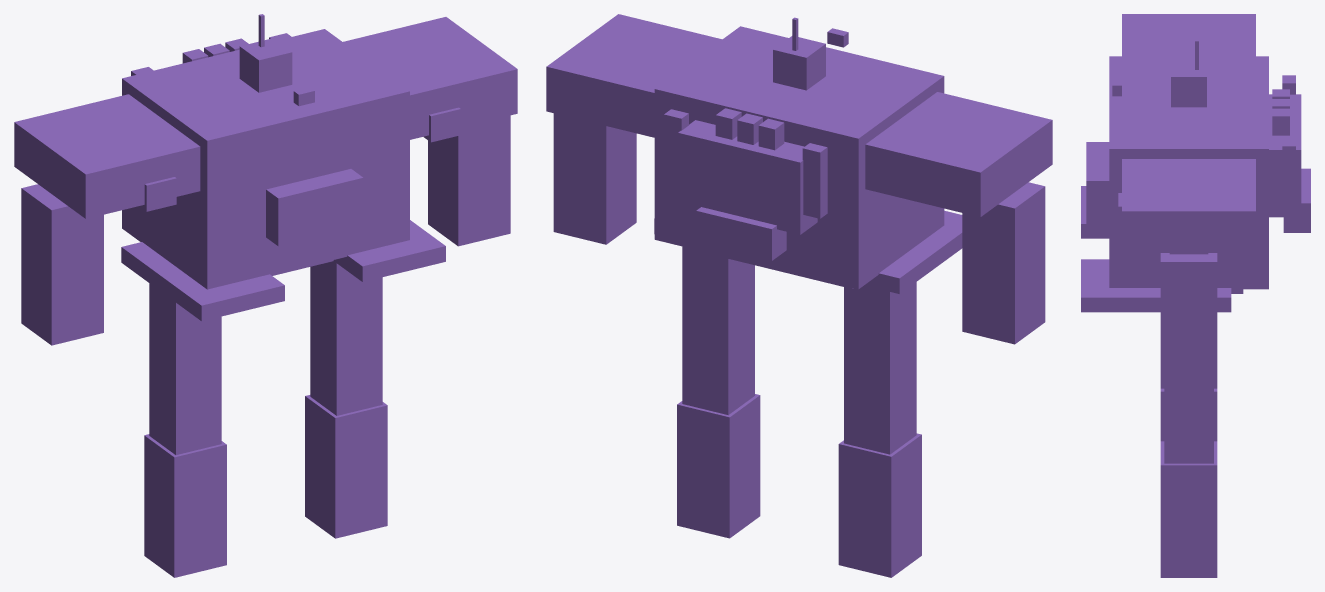
File: mechfall_maxtac_ram.obj
The picture shows the model from 3 angles, left to right: view 1: azimuth 30°, elevation 25°; view 2: azimuth 150°, elevation 25°; view 3: azimuth 270°, elevation 25°; orthographic projection. The views are drawn at different scales.
Visible parts, largest first — view 1: mechfall_maxtac_ram; view 2: mechfall_maxtac_ram; view 3: mechfall_maxtac_ram.
Boxes of the visible parts, box(x1,y1,x2,y2) form: mechfall_maxtac_ram: box(14, 14, 517, 577); mechfall_maxtac_ram: box(546, 14, 1052, 577); mechfall_maxtac_ram: box(1081, 14, 1310, 577).
Bounding box in the file's own units: 7.33 × 7.97 × 3.4.
